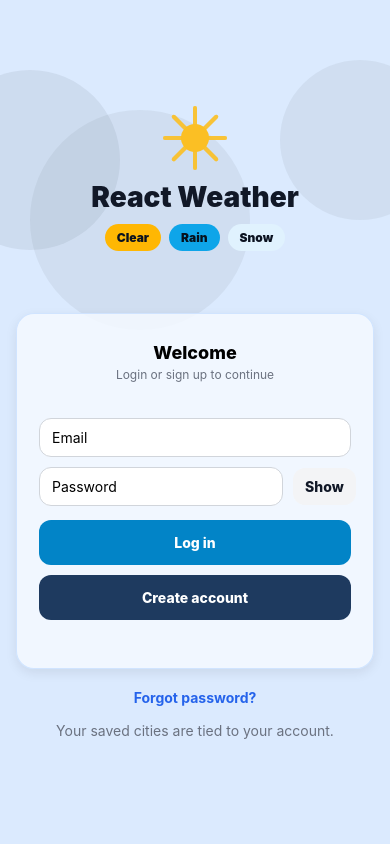
LoginScreen › shows validation error for invalid email
Type "not-an-email" into the field with placeholder "Email" at coordinates (195, 437), box [39,418,351,456]
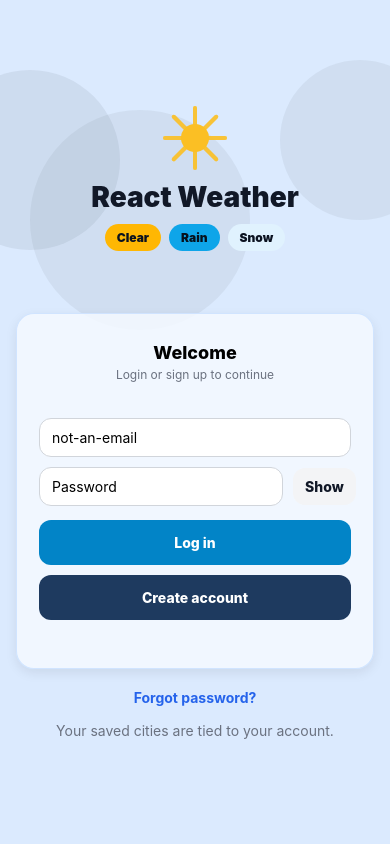
Type "123456" into the password field with placeholder "Password" at coordinates (161, 486), box [39,466,283,506]
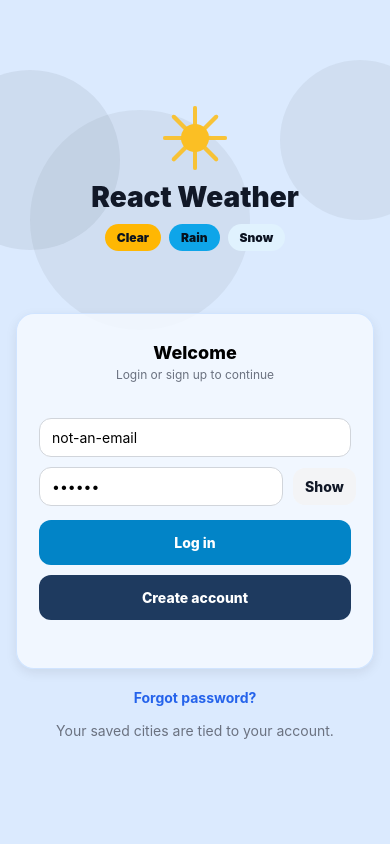
Click the text "Log in" at coordinates (195, 542), box [174,534,216,550]
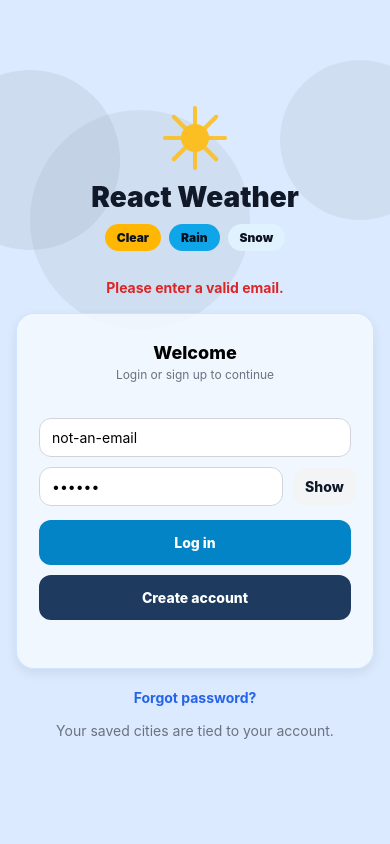
Check: the text "Please enter a valid email." is shown, box [106,279,284,296]
